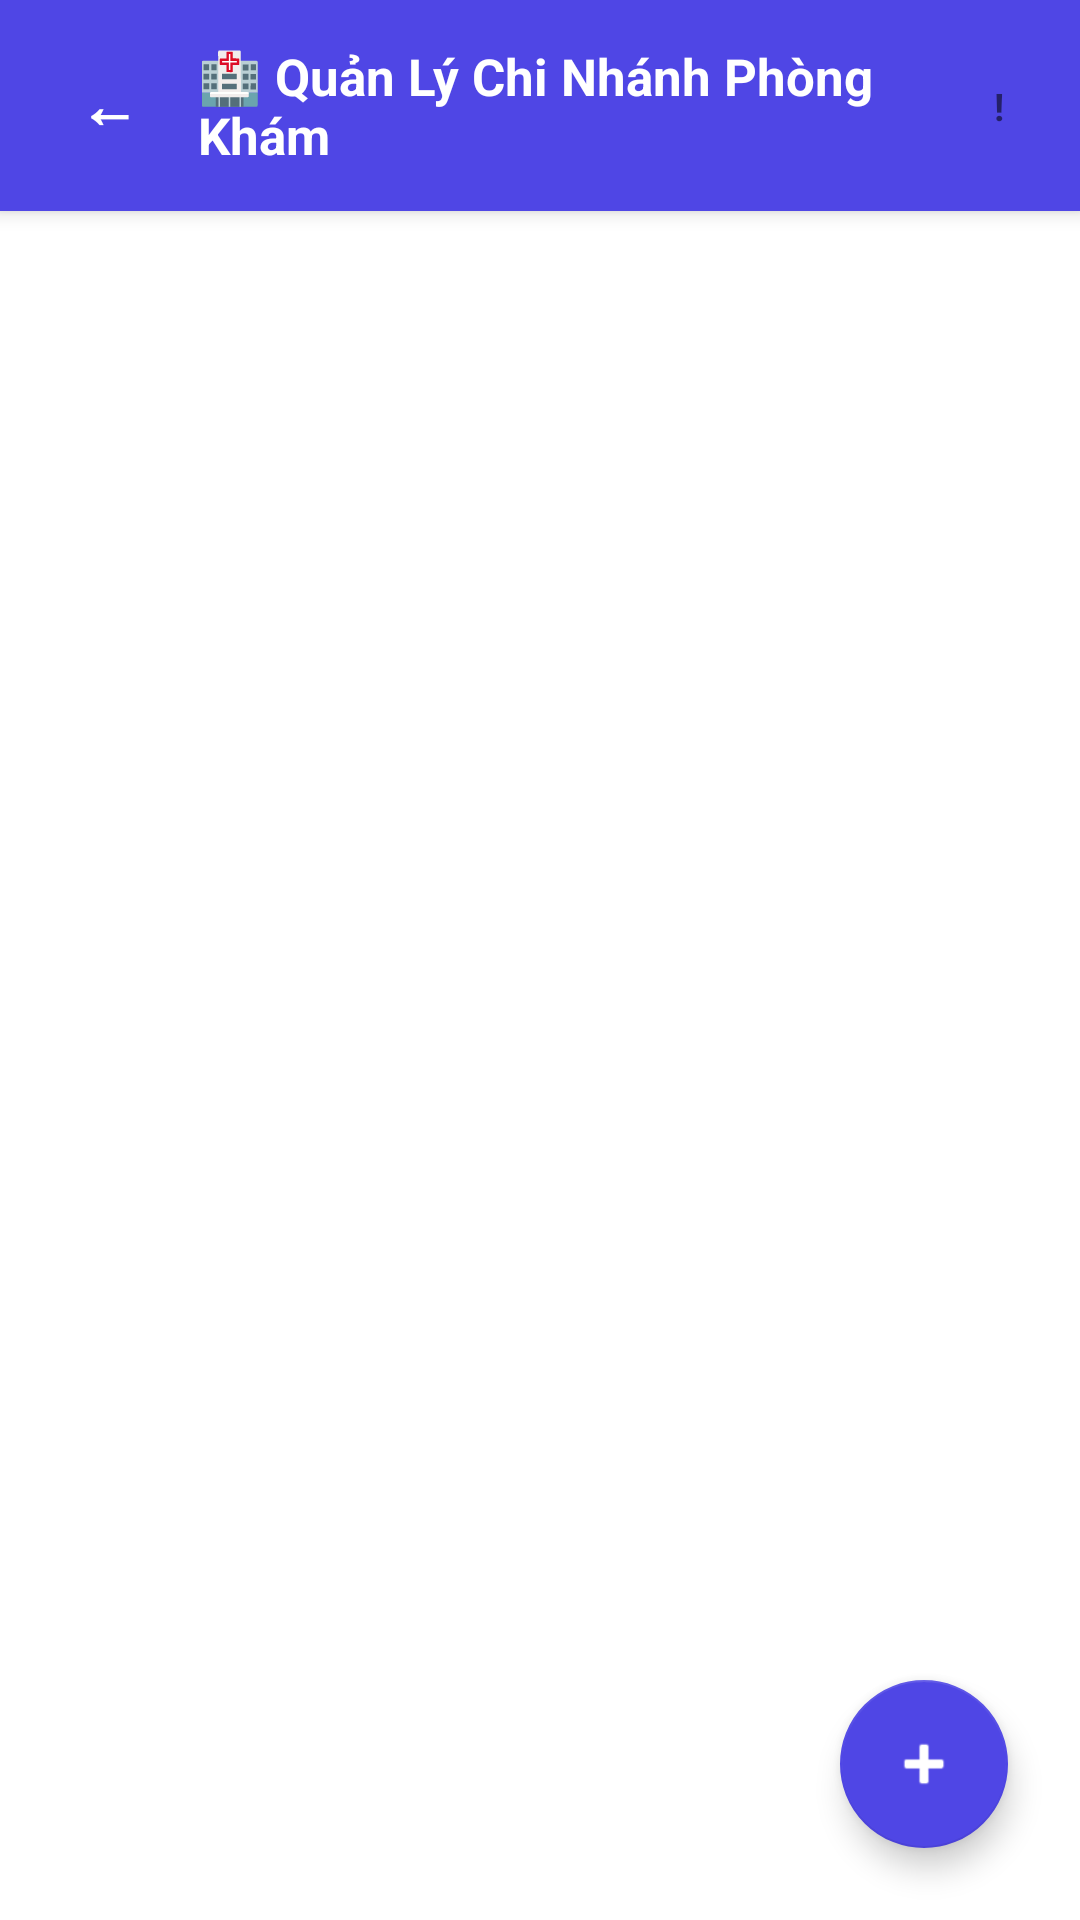

Named icons in this screenshot (1080w x 1920h) and their bounding boxes, (x1, y1, x2, y2):
Thêm chi nhánh: (840, 1680, 1008, 1848)
